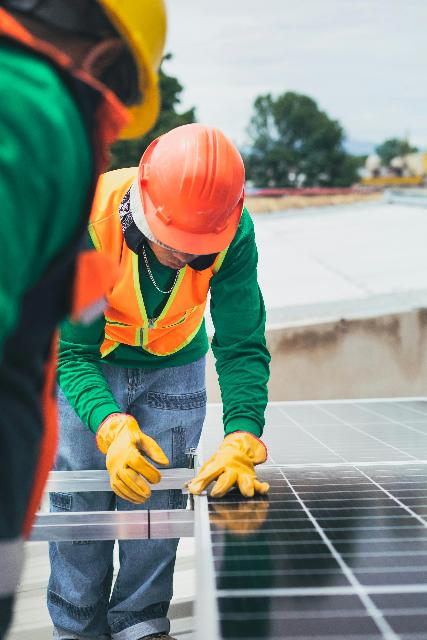helmet: (0, 0, 154, 132), (132, 128, 244, 260)
vest: (81, 172, 231, 368)
